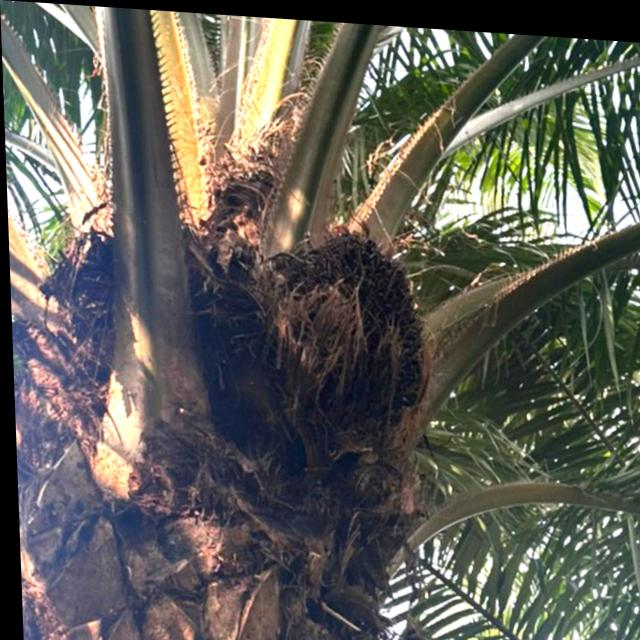almost: (285, 219, 427, 410)
